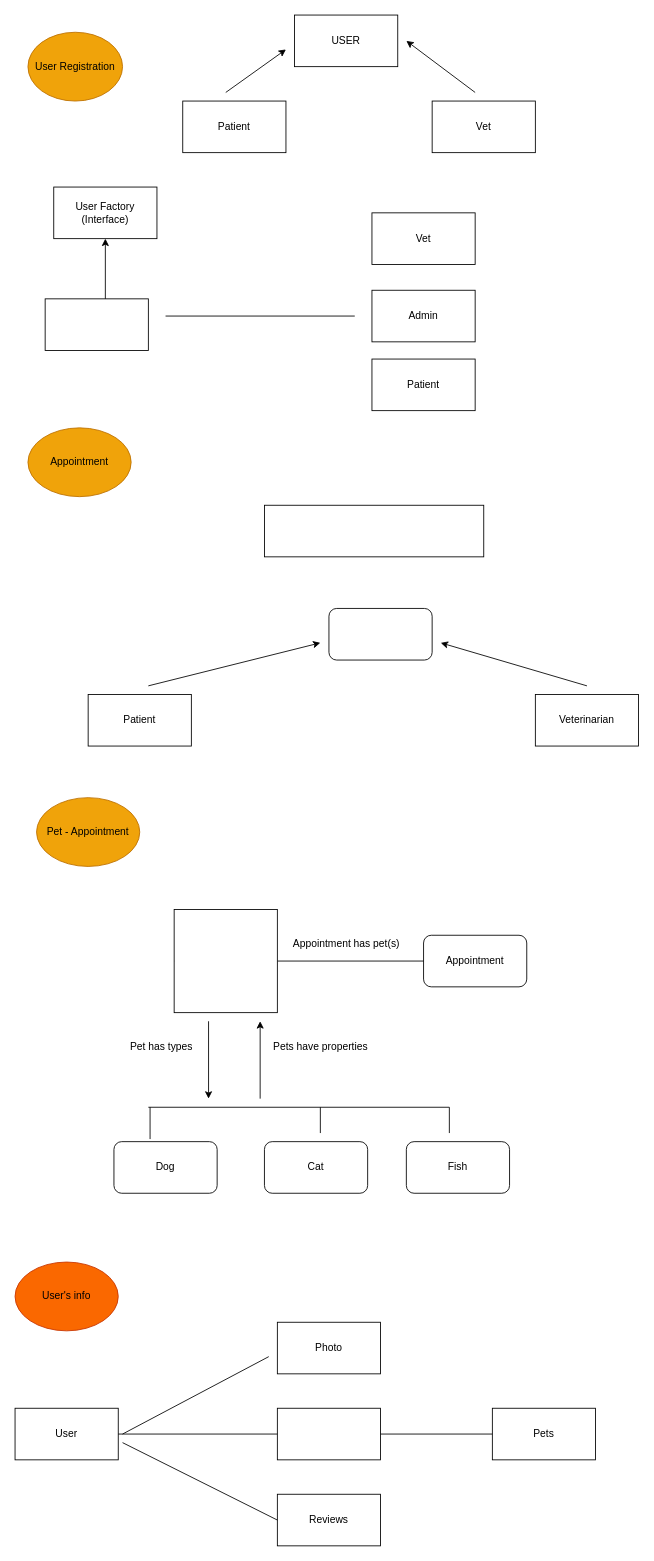
This 654x1561 diagram has some shape labels left out. Each missing label, with the box of its shape:
Appointment P - user sender V - user recipient: (328, 608, 432, 660)
Appointments: (276, 1407, 381, 1460)
Check UserType: (44, 298, 148, 350)
Pet: Type, Breed, .....: (173, 909, 277, 1013)
User: List<Appointment> appointments: (264, 504, 484, 557)
